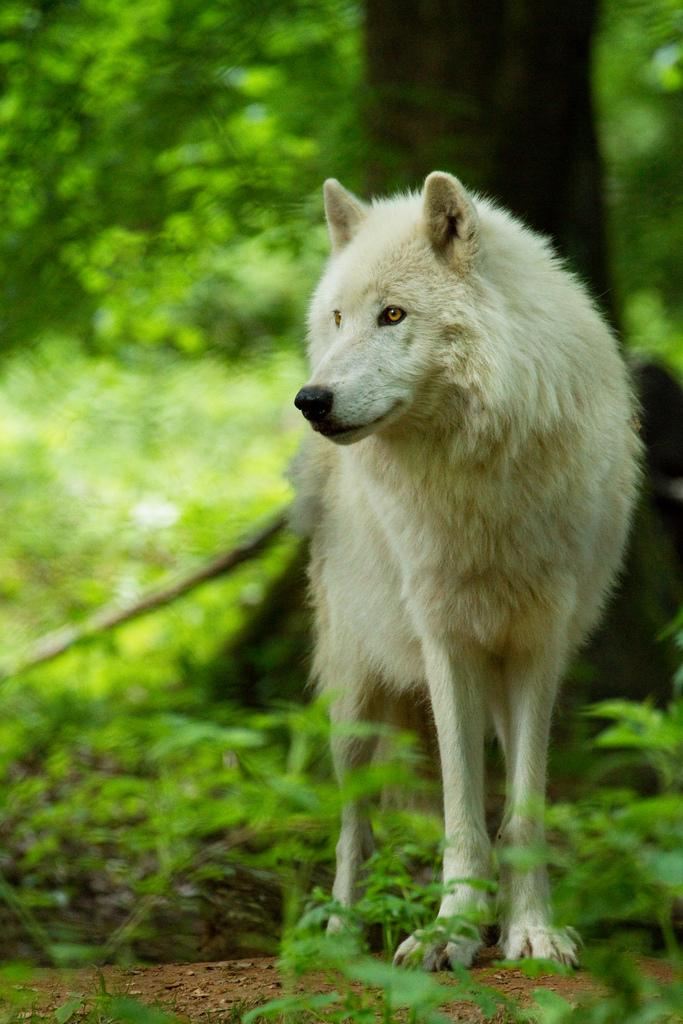Wolf: (278, 171, 639, 972)
